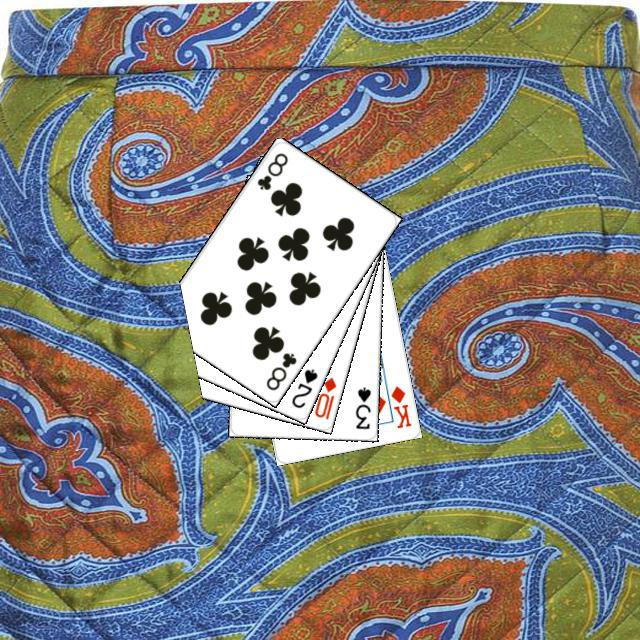10d: (309, 372, 338, 421)
2s: (286, 364, 319, 410)
3s: (351, 382, 372, 431)
8c: (252, 148, 290, 192), (261, 347, 298, 392)
Kd: (386, 381, 413, 430)
